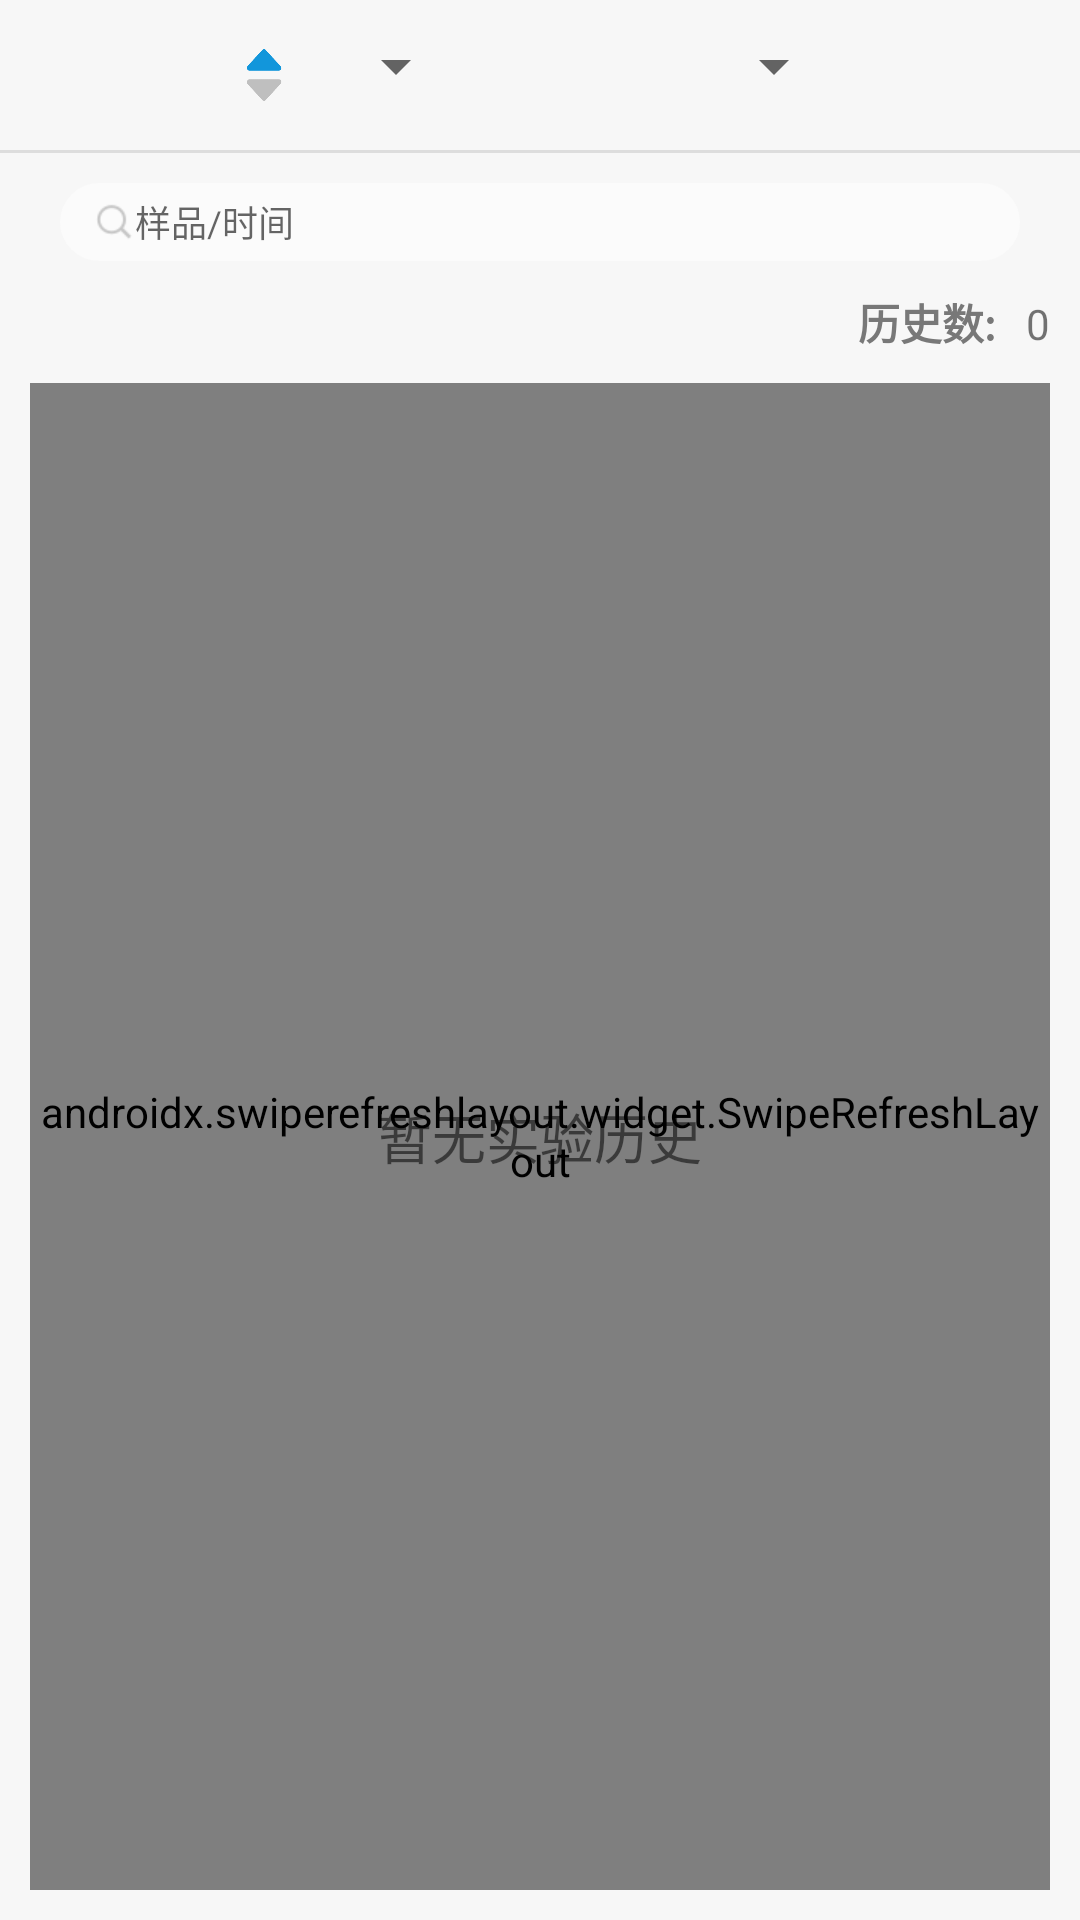

Icons on this 1080px x 1920px Android screen, each with the point to tap as point (x, y):
search: point (114, 221)
